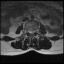CCS_normal: (30, 28, 32, 36)
LFS_normal: (34, 28, 36, 34)
LLS_normal: (32, 28, 34, 35)
RFS_normal: (27, 28, 29, 34)
RLS_normal: (29, 28, 30, 35)
